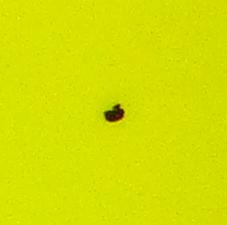Coleoptera: (100, 100, 127, 125)
